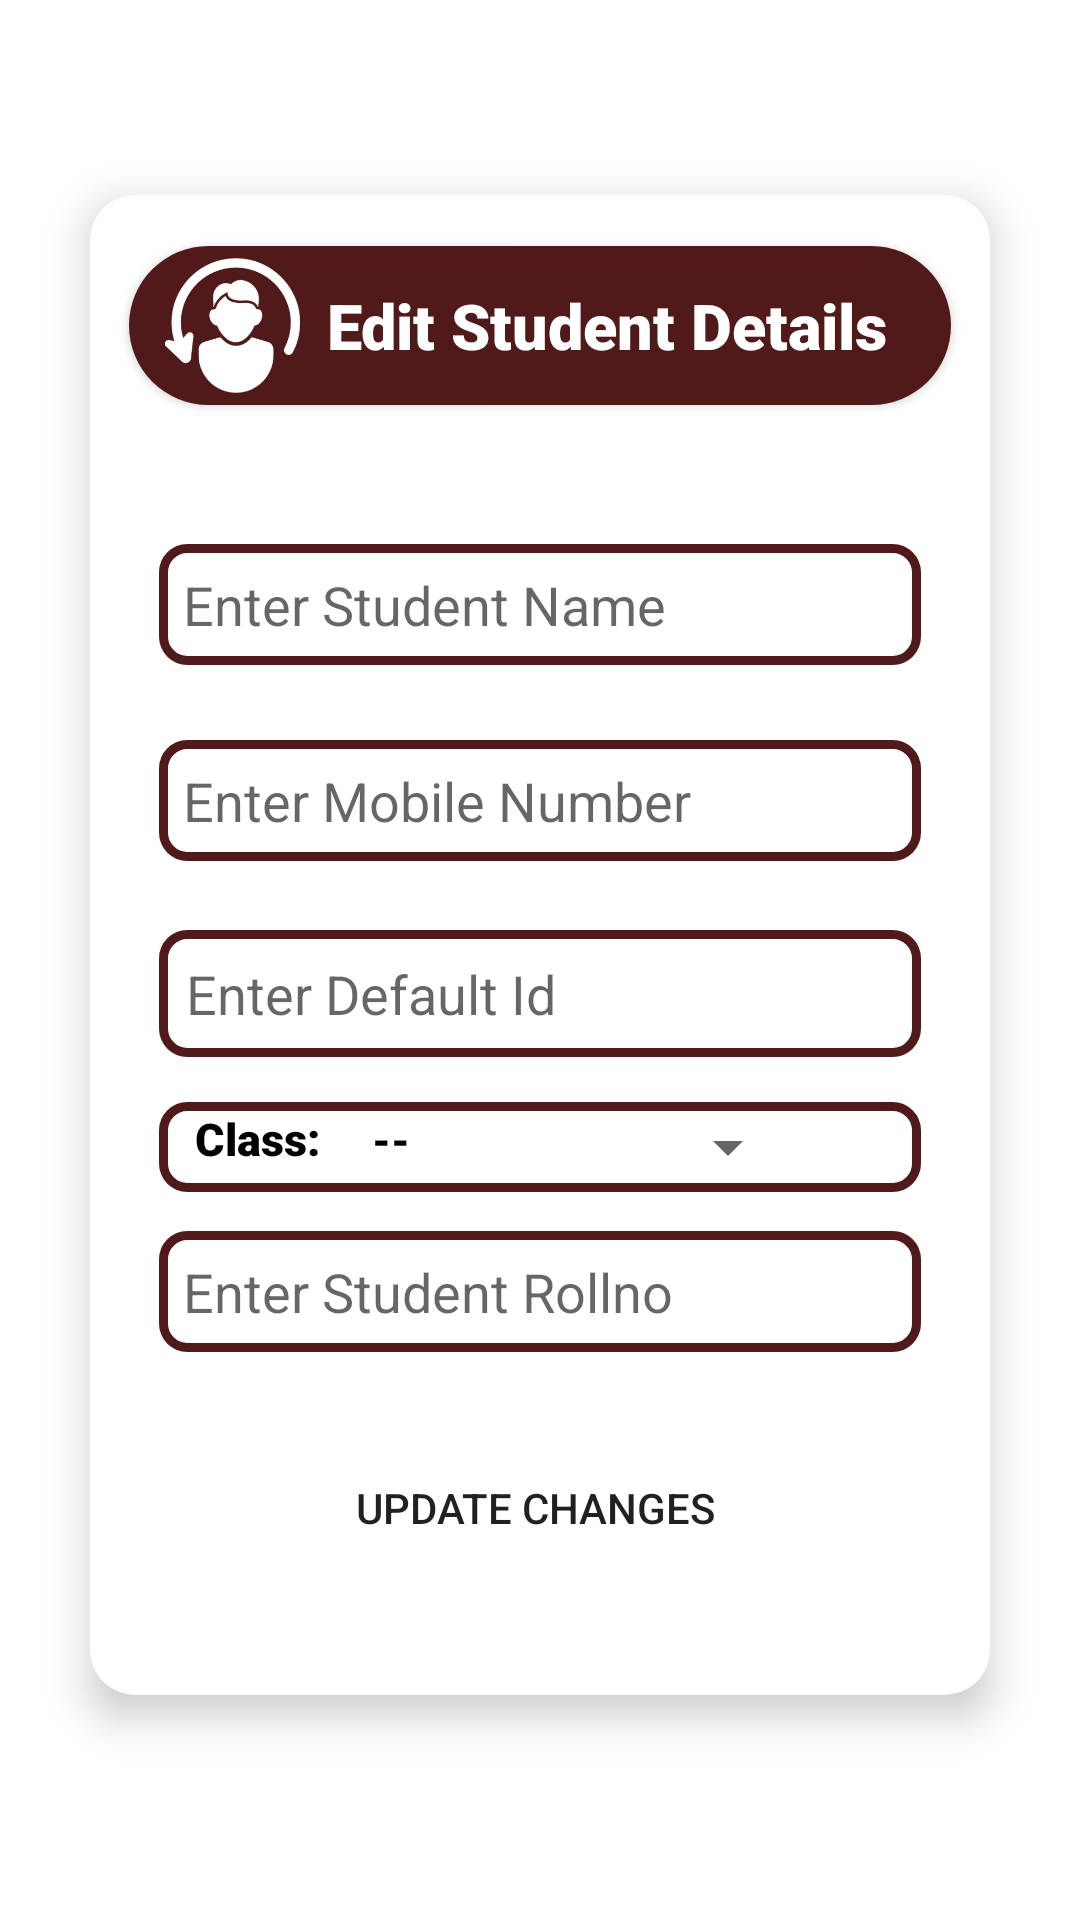

Named icons in this screenshot (1080*1920) and their centers, point (x, y):
updatestaff: point (232, 325)
